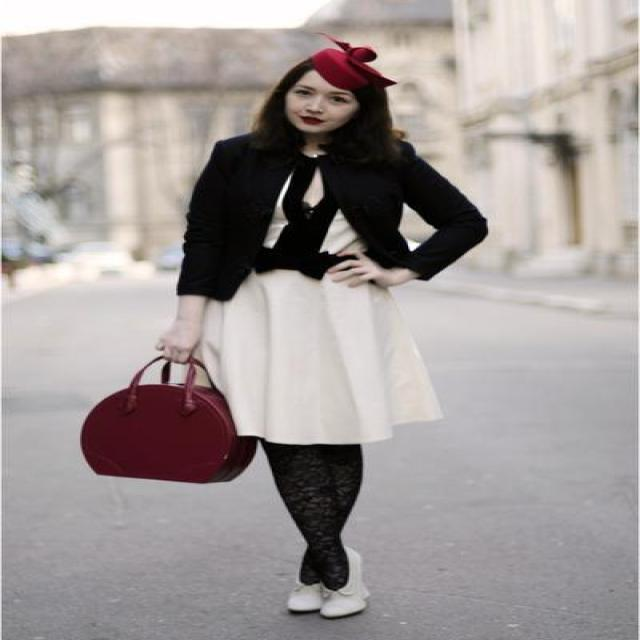bag: (80, 346, 269, 483)
dress: (211, 148, 440, 444)
hat: (291, 42, 395, 101)
jacket: (176, 115, 486, 302)
shoe: (288, 588, 363, 614)
